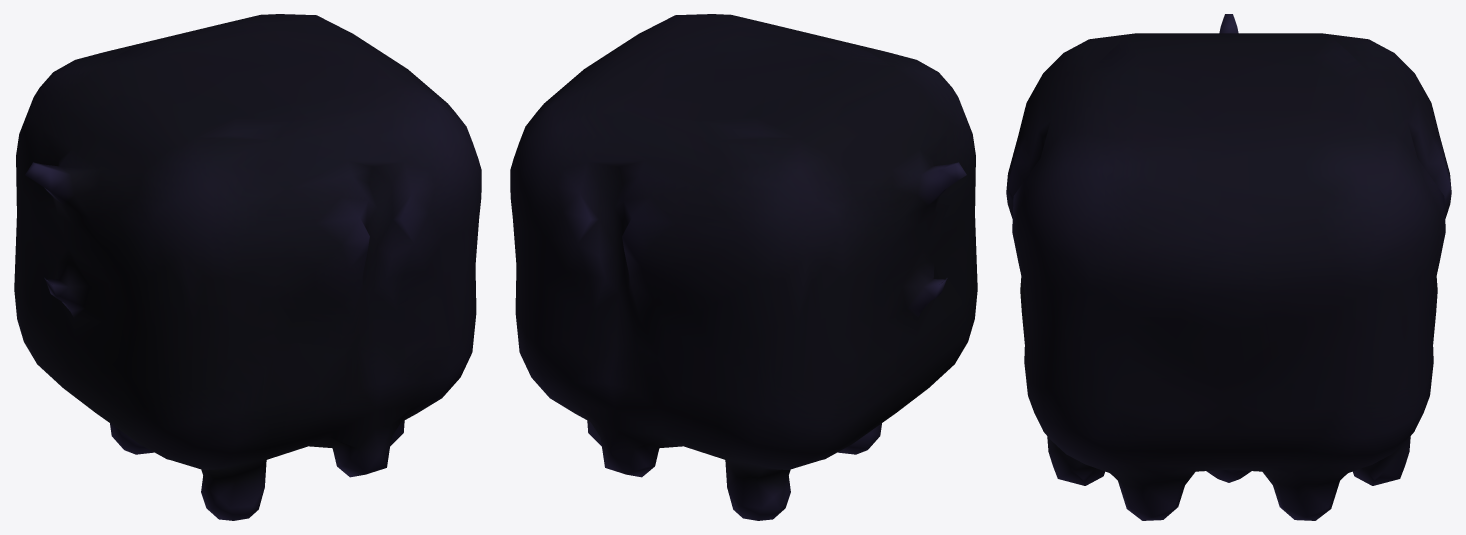
The model's file is arm_low.glb.
3 views of the same model, side by side, from view 1: azimuth 30°, elevation 25°; view 2: azimuth 150°, elevation 25°; view 3: azimuth 270°, elevation 25° (orthographic). The views are drawn at different scales.
Visible parts, largest first — view 1: Goo; view 2: Goo; view 3: Goo.
Boxes of the visible parts, x1=… form: Goo: x1=14, y1=14, x2=481, y2=520; Goo: x1=510, y1=14, x2=977, y2=520; Goo: x1=1006, y1=14, x2=1451, y2=520.
Bounding box in the file's own units: 0.5196 × 0.4747 × 0.4614.
